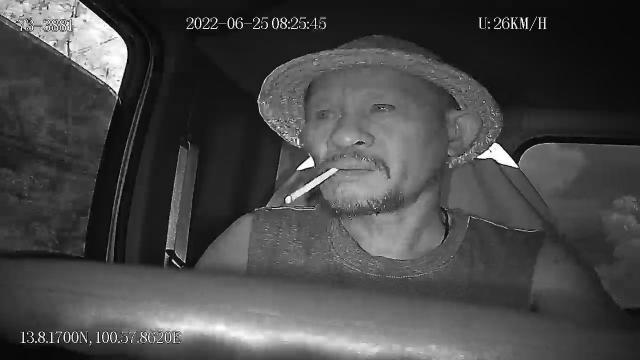SafeDriving: (363, 93, 403, 118), (310, 100, 343, 126)
Smoking: (285, 164, 339, 206)
